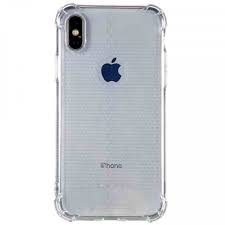iphone: (53, 1, 170, 220)
